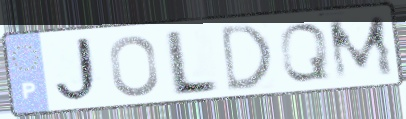D: (218, 21, 274, 95)
J: (53, 34, 106, 106)
L: (165, 27, 221, 99)
M: (324, 12, 398, 83)
O: (107, 33, 162, 99)
Q: (277, 21, 332, 84)
